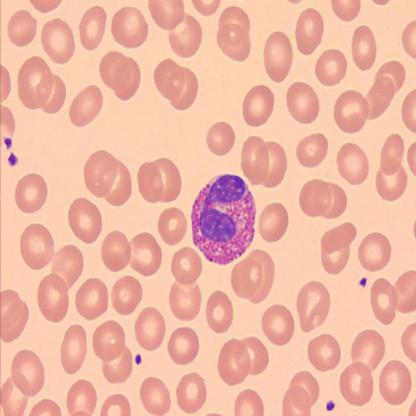Eosinophil: (191, 172, 257, 264)
